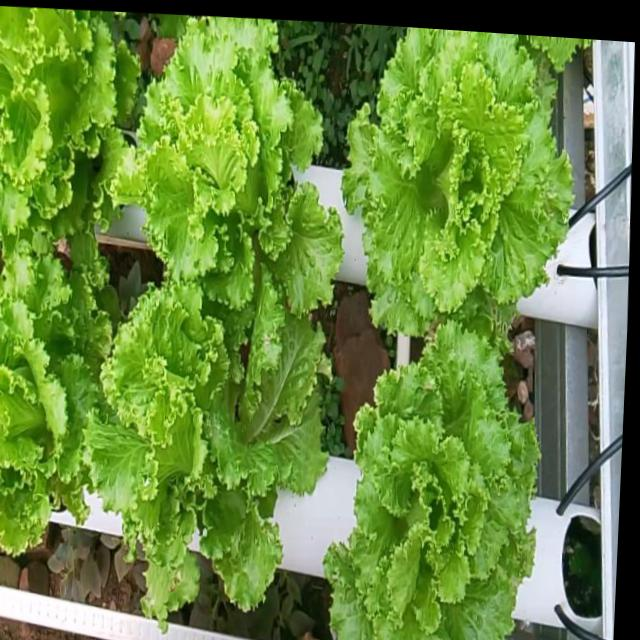Mature: (77, 288, 319, 626), (331, 27, 567, 338), (112, 17, 332, 338), (316, 321, 529, 640), (0, 6, 128, 259), (0, 264, 100, 566)
